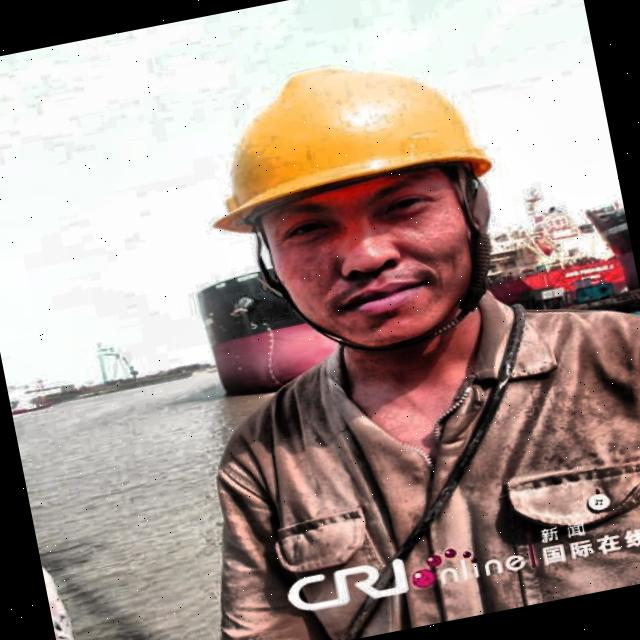helmet: (147, 2, 568, 398)
